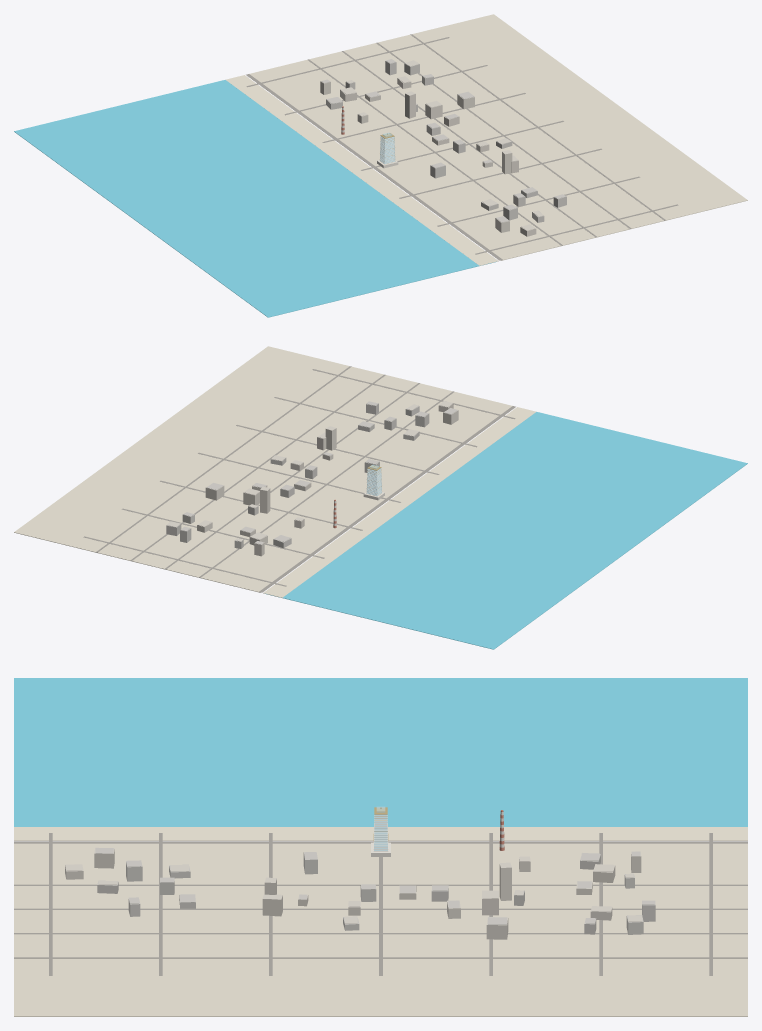
The model's file is ashira.glb.
3 views of the same model, one above another, from view 1: azimuth 30°, elevation 25°; view 2: azimuth 150°, elevation 25°; view 3: azimuth 270°, elevation 25° (orthographic). The views are drawn at different scales.
Parts seen in each view (by area): view 1: scene; view 2: scene; view 3: scene.
Boxes of the visible parts, <box> form: scene: <box>14,14,747,317</box>; scene: <box>14,346,747,649</box>; scene: <box>14,678,747,1016</box>.
Size of the model in its own units: 1090 by 67.6 by 1000.
